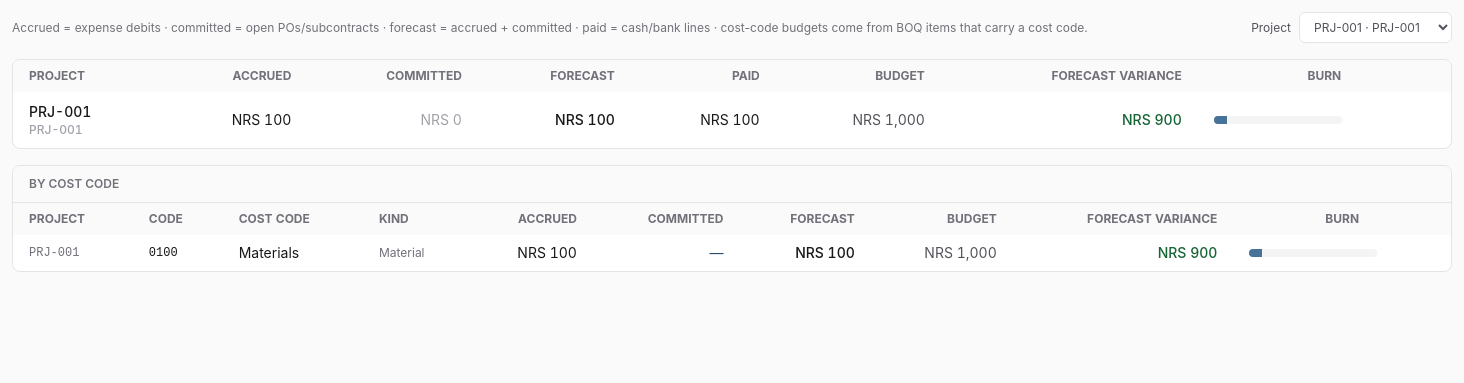
Test case: Job Cost view › separates jobs when the same cost code is used twice
Select "All projects" in the dropdown with test id "jobcost-project-filter". click: (1376, 28)
box: x1=1299 y1=12 x2=1452 y2=43
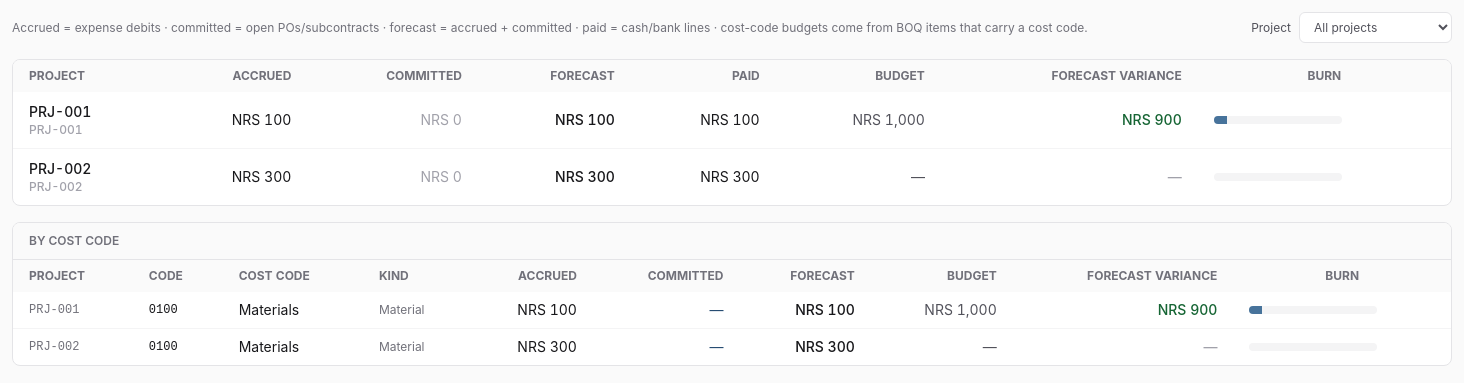
Check: the cell with test id "jobcost-code-accrued-PRJ-001-0100" shows "100", box x1=517 y1=301 x2=577 y2=318
Check: the cell with test id "jobcost-code-accrued-PRJ-002-0100" shows "300", box x1=517 y1=338 x2=577 y2=355
Filtering to one job hides the other.
Select "PRJ-002 · PRJ-002" in the dropdown with test id "jobcost-project-filter". click: (1376, 28)
box: x1=1299 y1=12 x2=1452 y2=43
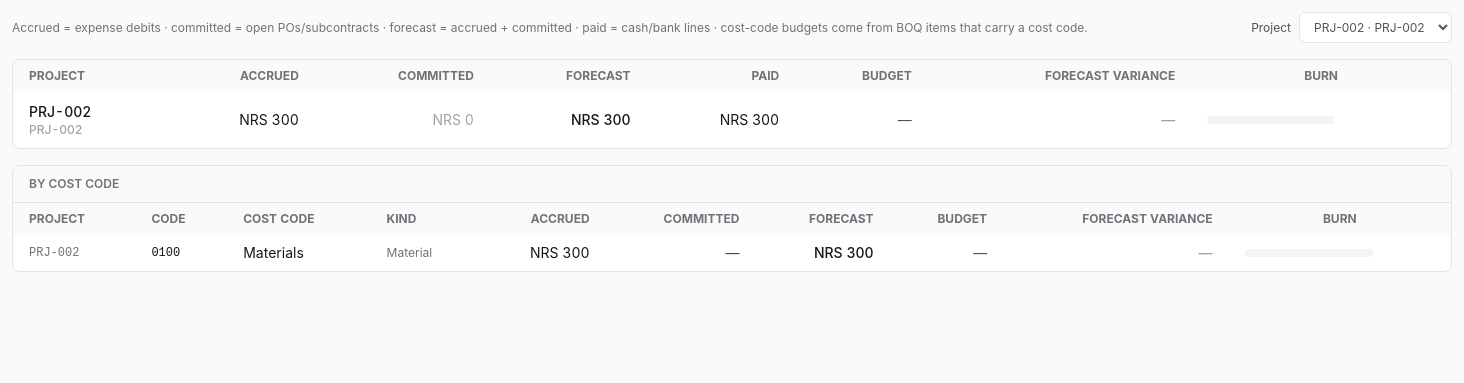
Check: the row with test id "jobcost-code-PRJ-002-0100" is shown, box x1=13 y1=235 x2=1451 y2=271
Check: the row with test id "jobcost-code-PRJ-001-0100" is gone
